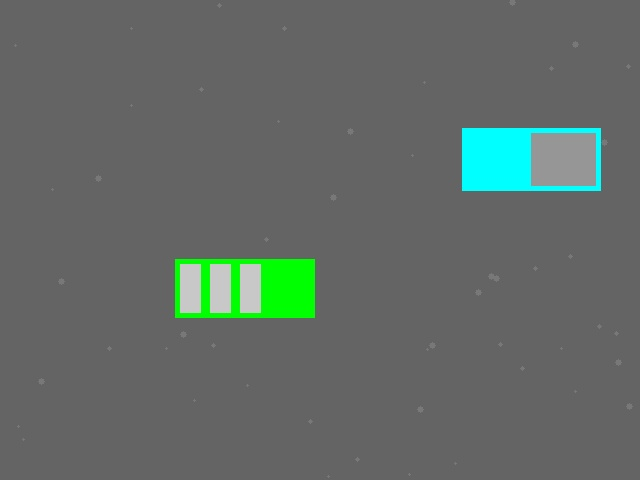bus: (175, 259, 314, 317)
truck: (462, 128, 600, 190)
